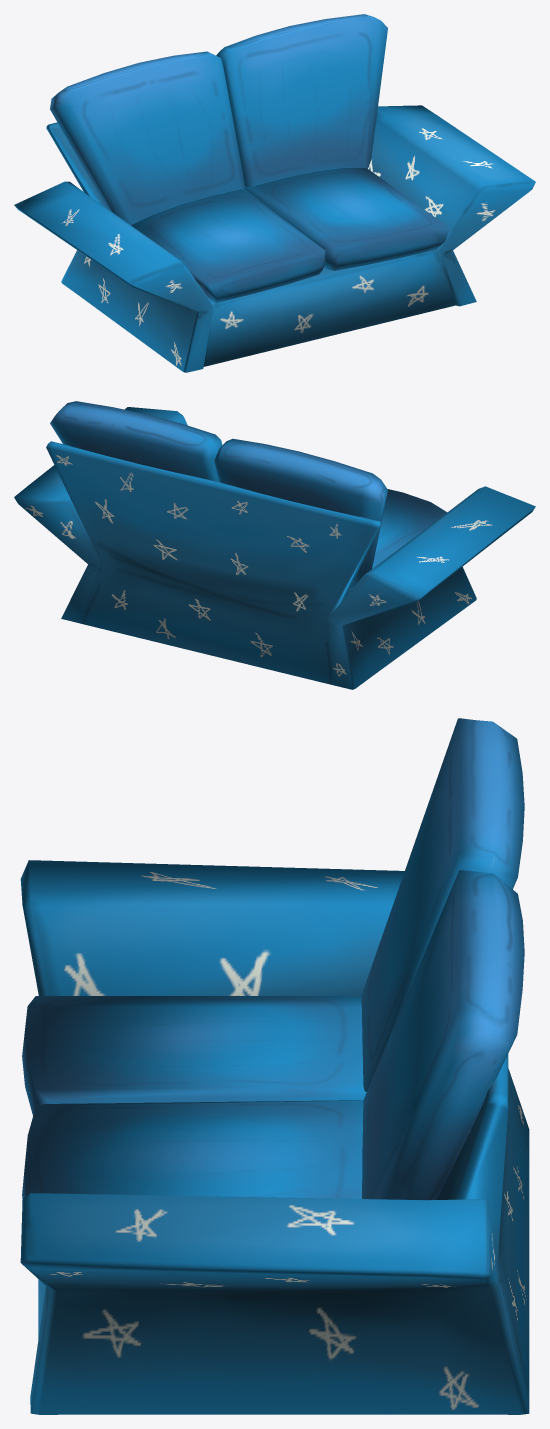
File: couch.fbx
3 views of the same model, one above another, from view 1: azimuth 30°, elevation 25°; view 2: azimuth 150°, elevation 25°; view 3: azimuth 270°, elevation 25° (orthographic). The views are drawn at different scales.
Visible parts, largest first — view 1: pillows, Couch; view 2: Couch, pillows; view 3: Couch, pillows.
Boxes of the visible parts, left/top/right/bottom form: pillows: left=50, top=14, right=449, bottom=302; Couch: left=14, top=105, right=535, bottom=372; Couch: left=14, top=407, right=535, bottom=689; pillows: left=50, top=401, right=446, bottom=595; Couch: left=20, top=860, right=529, bottom=1414; pillows: left=22, top=718, right=524, bottom=1200.
Size of the model in its own units: 196 by 95.89 by 106.
